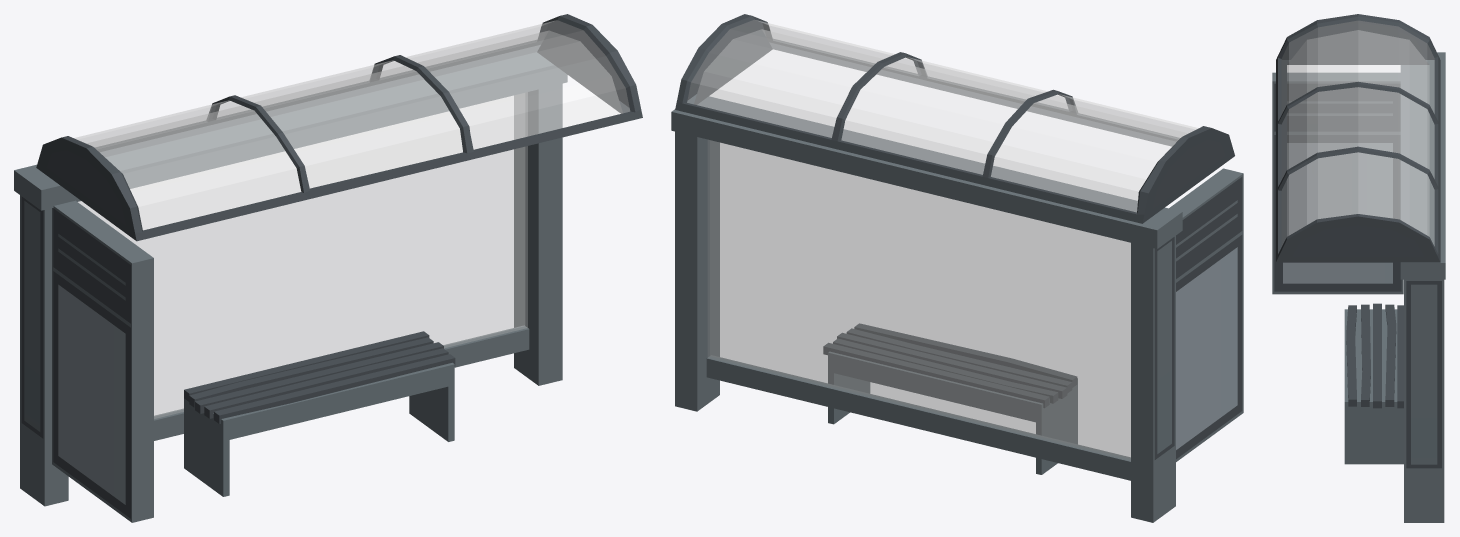
Rendered from transit_Shelter-2.glb.
3 views of the same model, side by side, from view 1: azimuth 30°, elevation 25°; view 2: azimuth 150°, elevation 25°; view 3: azimuth 270°, elevation 25° (orthographic). The views are drawn at different scales.
Parts seen in each view (by area): view 1: transit-shelter-2; view 2: transit-shelter-2; view 3: transit-shelter-2.
Boxes of the visible parts, bbox=[...] form: transit-shelter-2: bbox=[14, 14, 642, 522]; transit-shelter-2: bbox=[671, 14, 1243, 522]; transit-shelter-2: bbox=[1272, 14, 1445, 522].
Size of the model in its own units: 4.51 by 3.07 by 1.57.
Materials: 2 (1 with a texture image).
